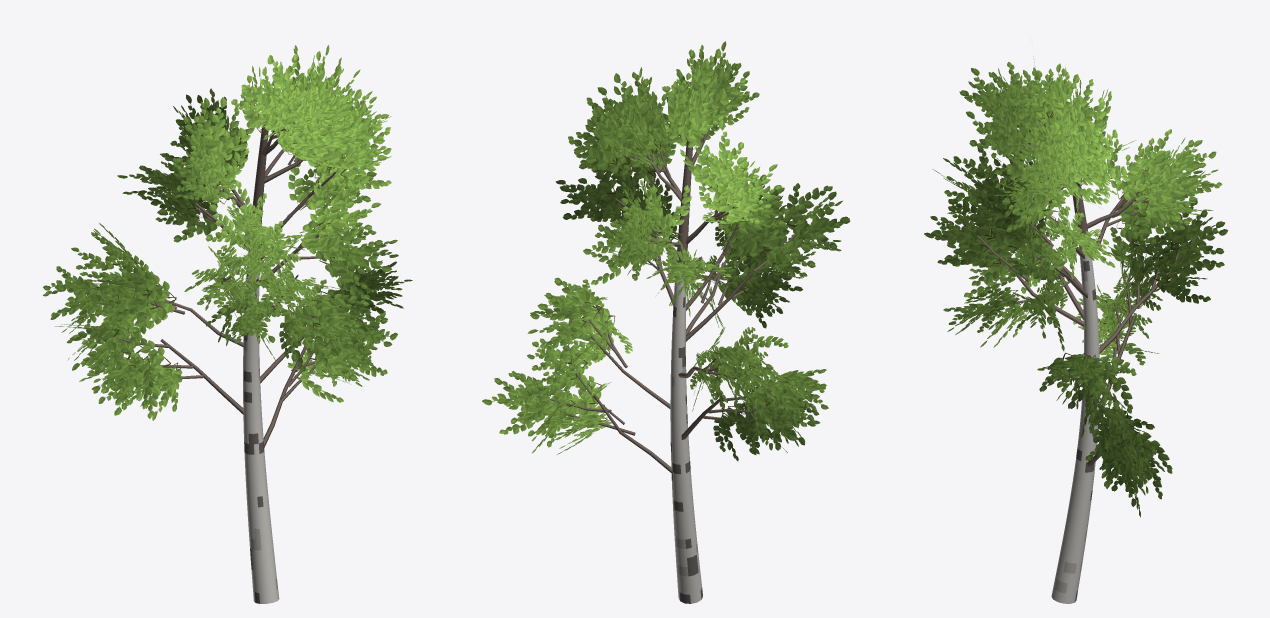
File: birch_1.glb
The picture shows the model from 3 angles, left to right: view 1: azimuth 30°, elevation 25°; view 2: azimuth 150°, elevation 25°; view 3: azimuth 270°, elevation 25°; orthographic projection. The views are drawn at different scales.
Visible parts, largest first — view 1: birch_1; view 2: birch_1; view 3: birch_1.
Part boxes in pixels (x1,y1,x2,y2): birch_1: (43,45,412,603); birch_1: (482,41,850,603); birch_1: (924,56,1227,603).
Bounding box in the file's own units: 6.94 × 10.13 × 5.5.
5 materials, 1 textured.
